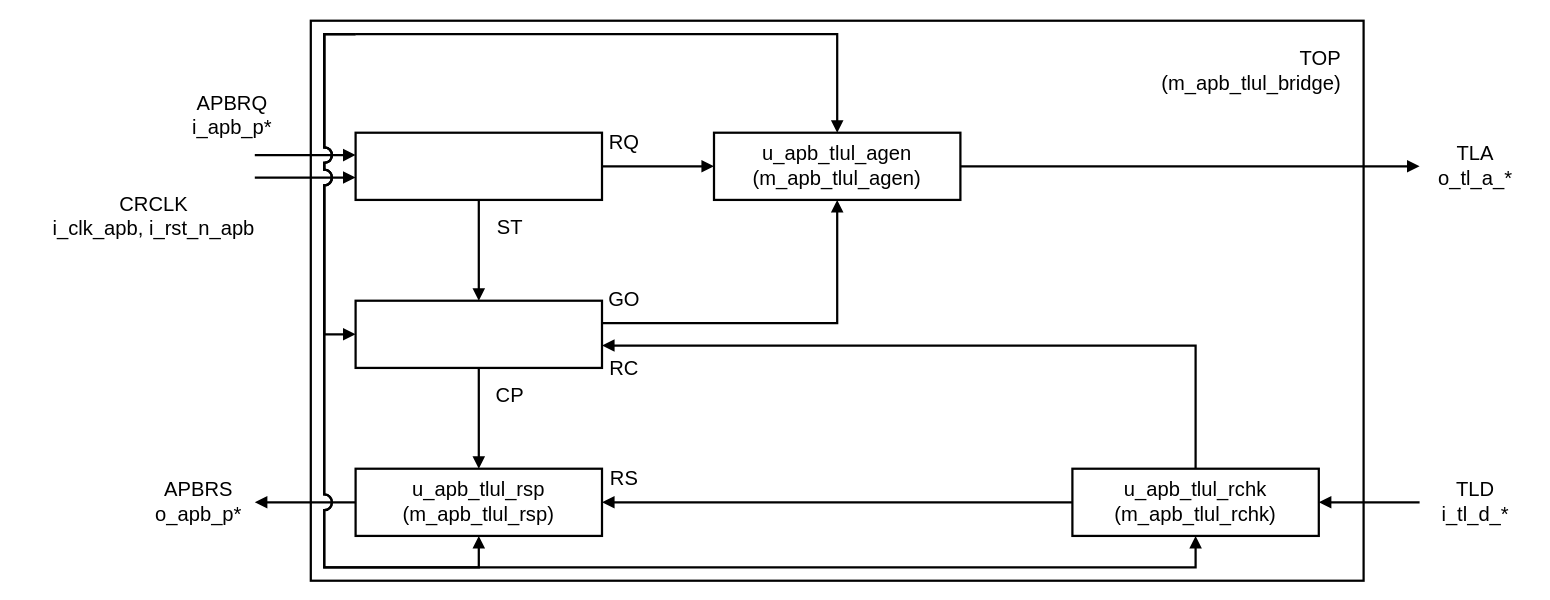
The diagram is 1550 pixels wide and 600 high, and some of its shapes have lost their labels. Each missing label, with the box of its shape:
u_apb_tlul_cap (m_apb_tlul_cap): (354, 131, 603, 200)
u_apb_tlul_fsm (m_apb_tlul_fsm): (354, 299, 603, 368)
